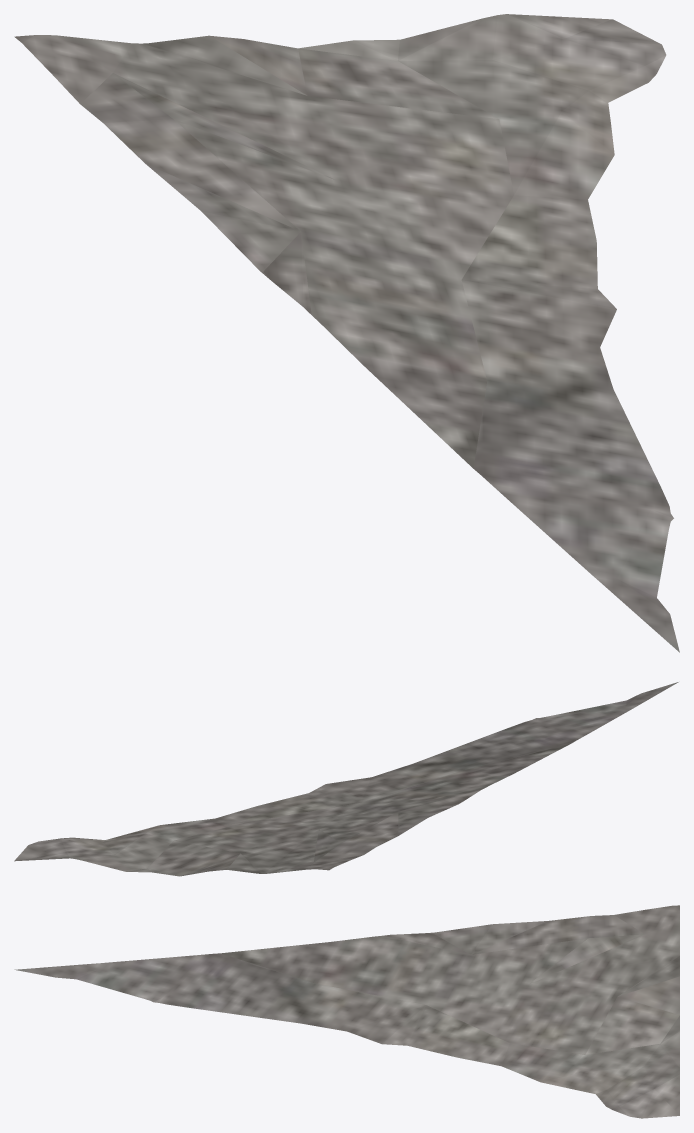
3 views of the same model, one above another, from view 1: azimuth 30°, elevation 25°; view 2: azimuth 150°, elevation 25°; view 3: azimuth 270°, elevation 25° (orthographic). The views are drawn at different scales.
Bounding box in the file's own units: 0.5257 × 0.1061 × 0.9944.
Materials: 1 (1 with a texture image).
